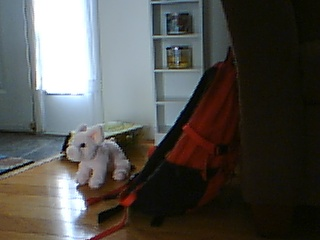piggy: (66, 124, 131, 189)
